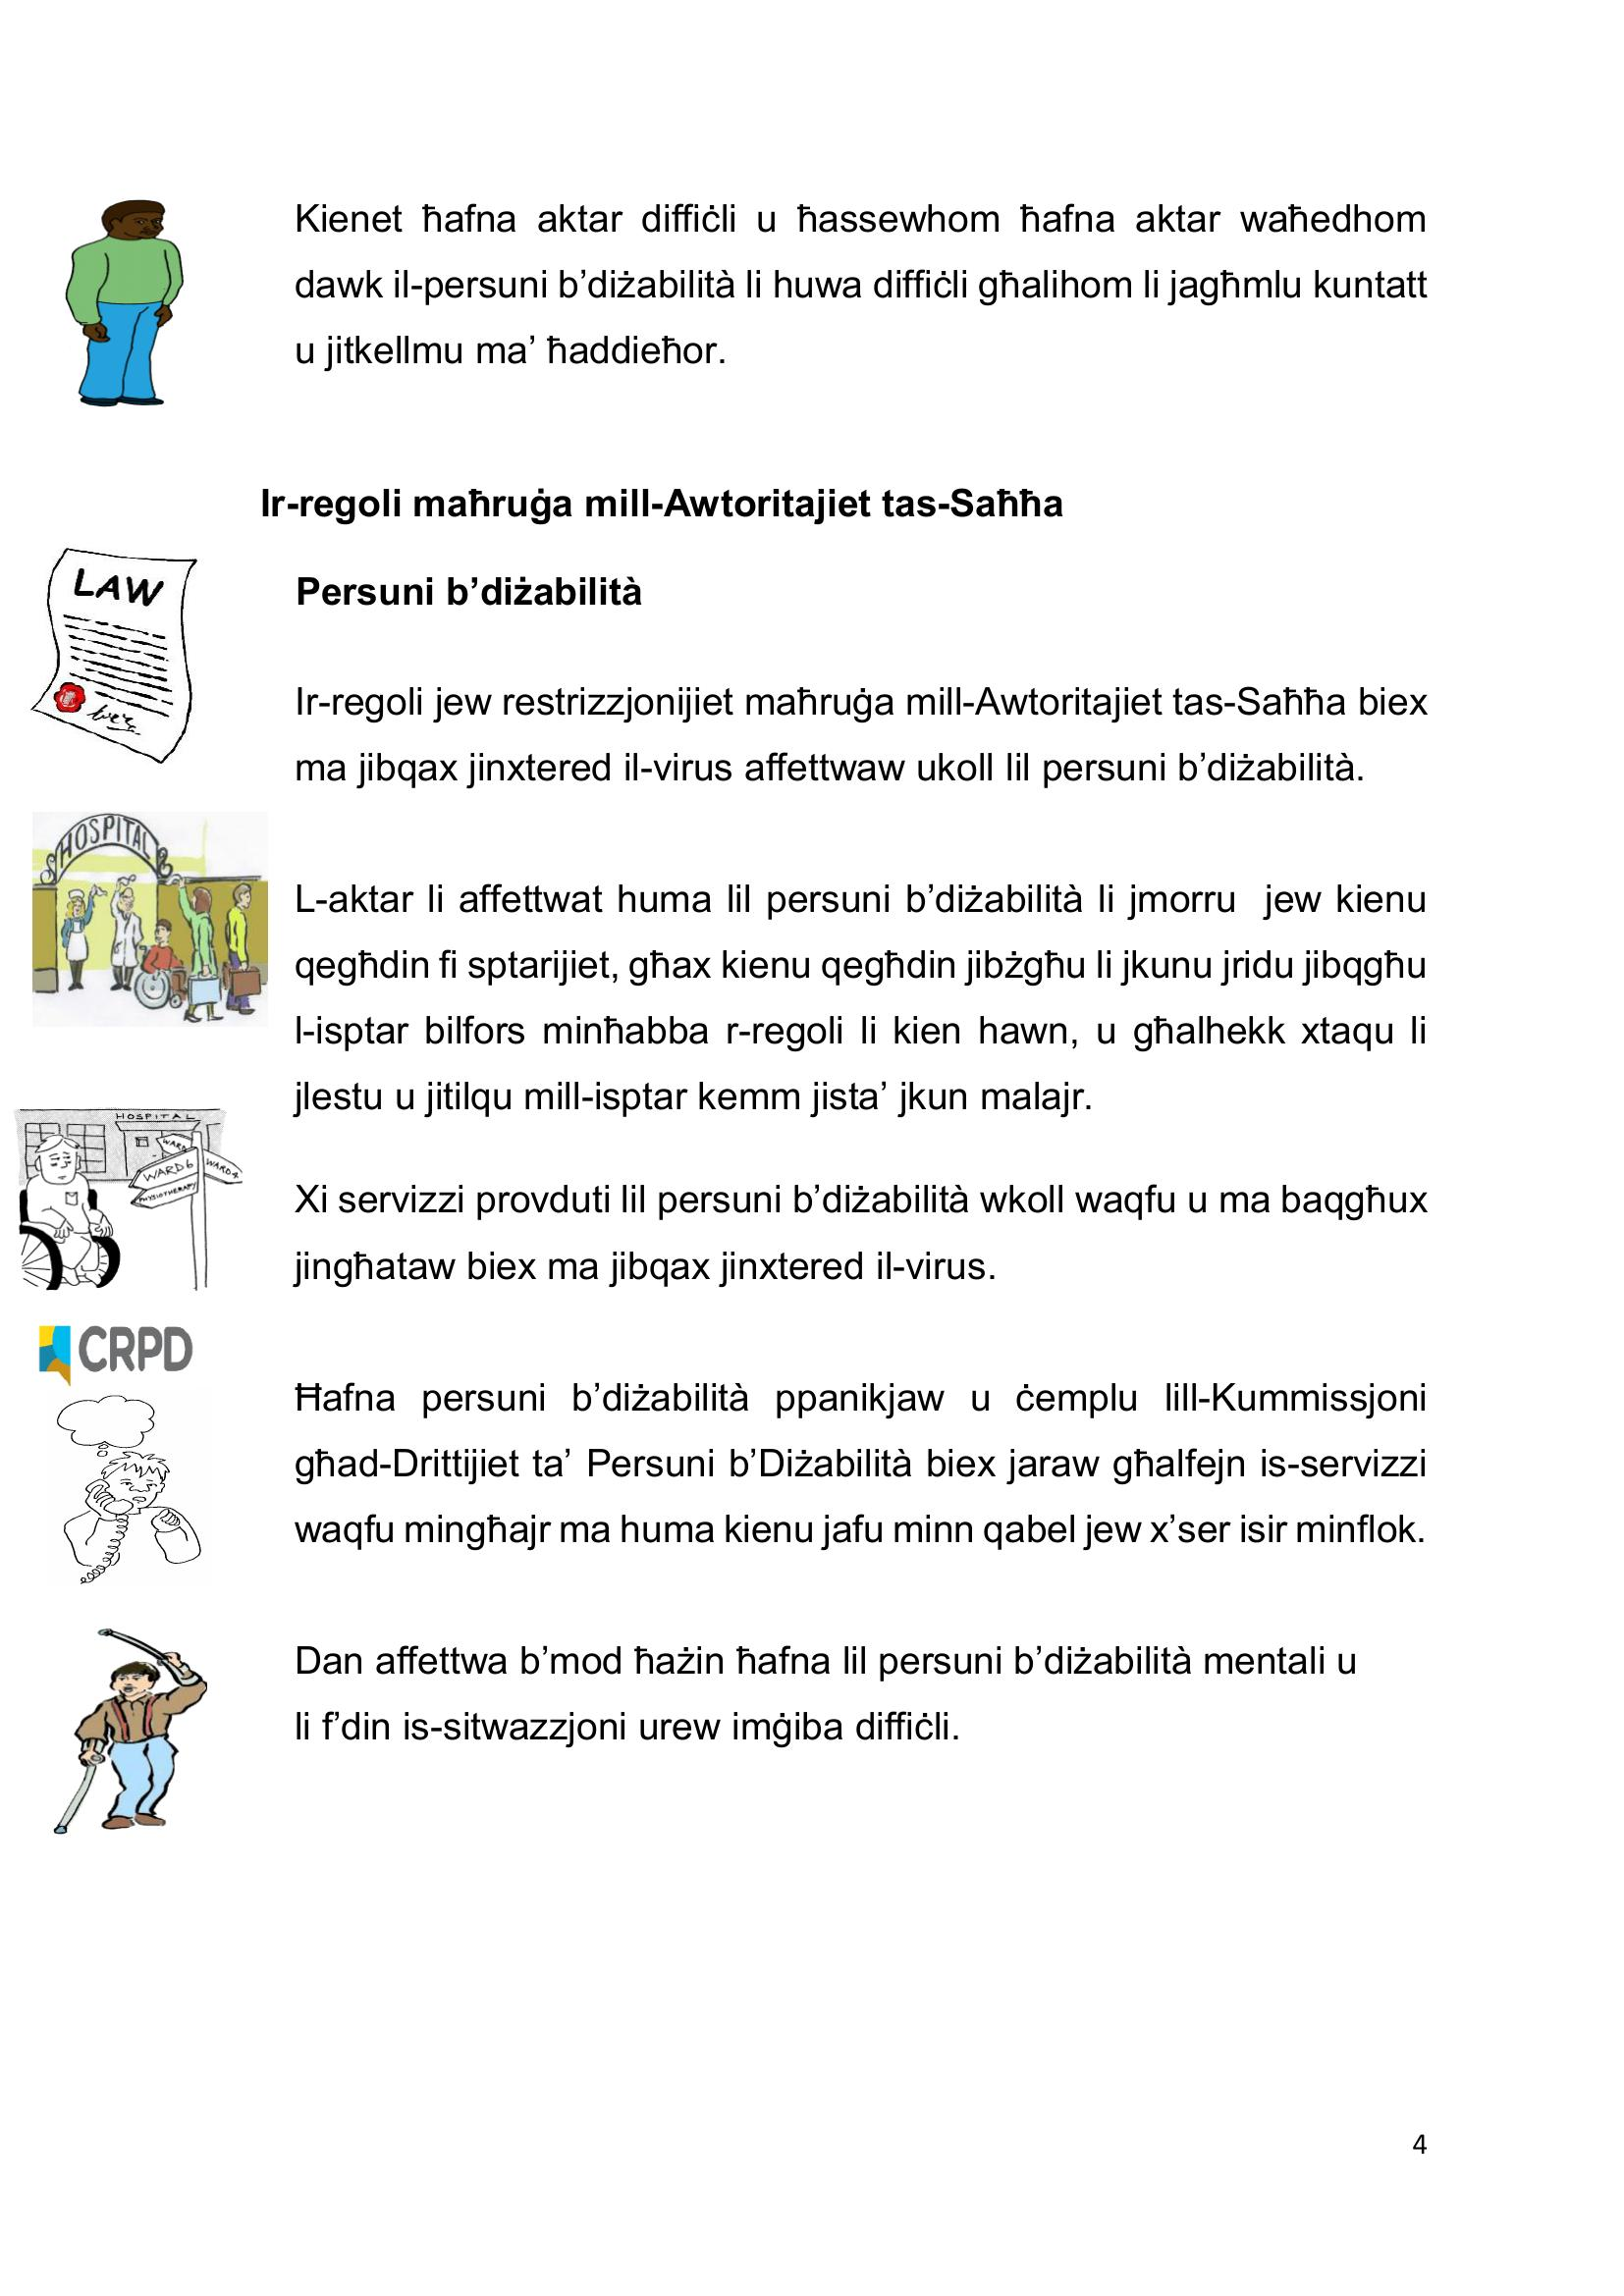text: (251, 155, 1478, 1813)
whiteout: (12, 792, 283, 1051)
